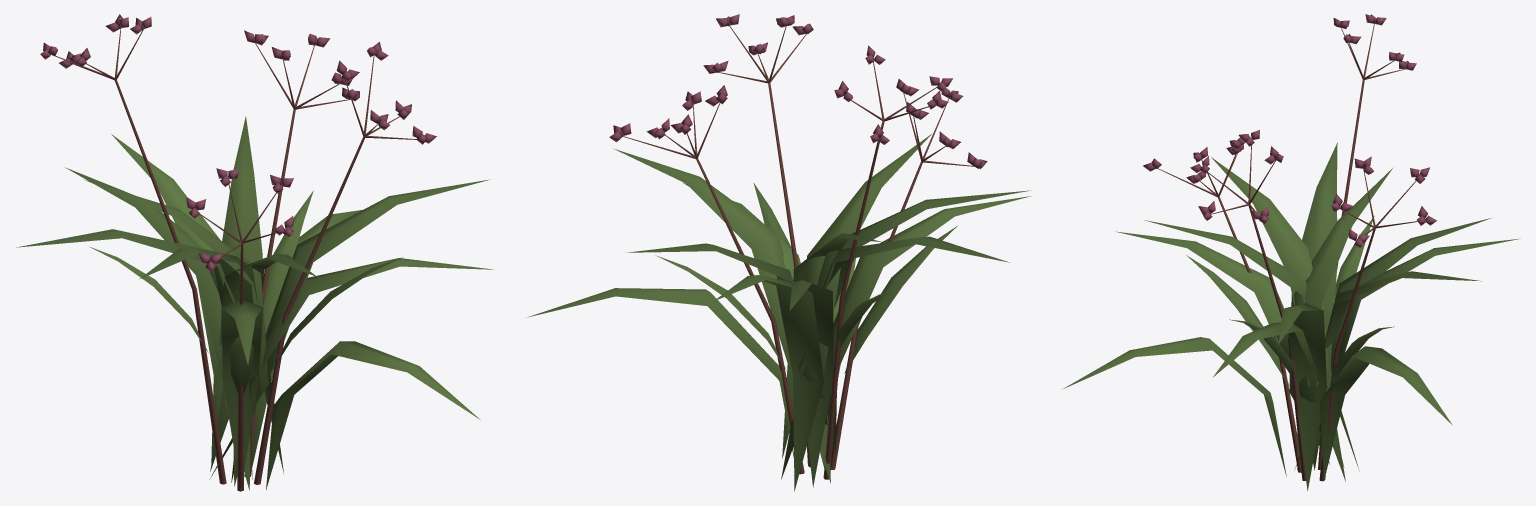
Rendered from red_bentgrass.glb.
The picture shows the model from 3 angles, left to right: view 1: azimuth 30°, elevation 25°; view 2: azimuth 150°, elevation 25°; view 3: azimuth 270°, elevation 25°; orthographic projection. The views are drawn at different scales.
Visible parts, largest first — view 1: red_bentgrass; view 2: red_bentgrass; view 3: red_bentgrass.
Part boxes in pixels (x1,y1,x2,y2): red_bentgrass: (16, 14, 493, 491); red_bentgrass: (527, 14, 1031, 491); red_bentgrass: (1062, 14, 1520, 490).
Bounding box in the file's own units: 0.5075 × 0.5131 × 0.5222.
